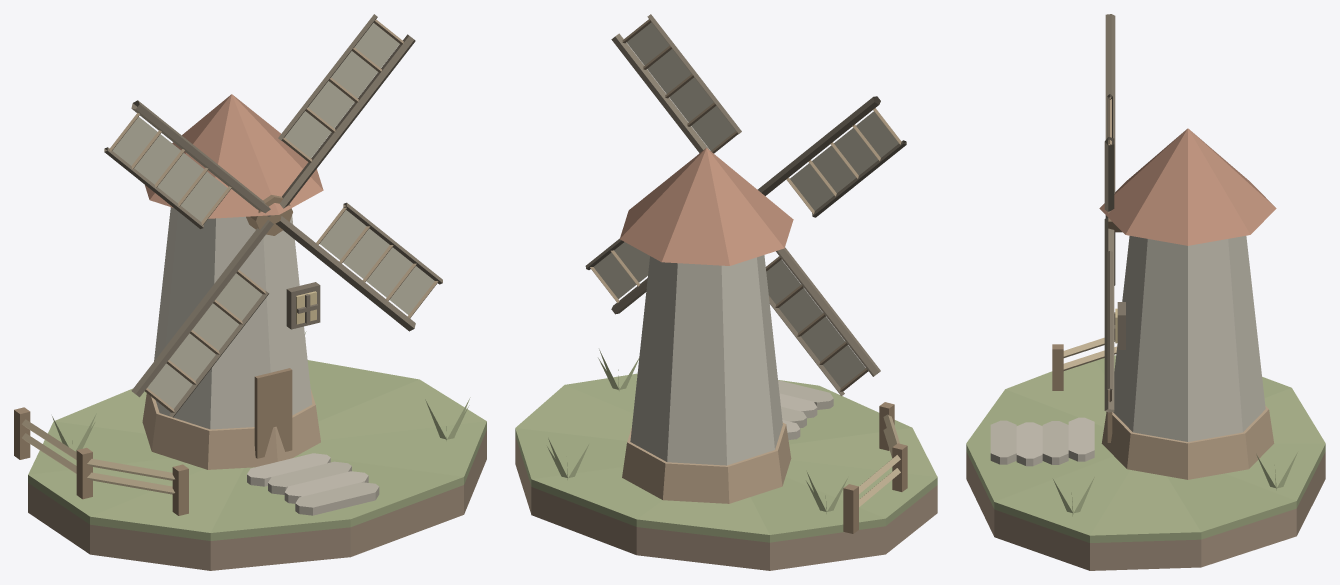
3 views of the same model, side by side, from view 1: azimuth 30°, elevation 25°; view 2: azimuth 150°, elevation 25°; view 3: azimuth 270°, elevation 25° (orthographic). The views are drawn at different scales.
Visible parts, largest first — view 1: S03, rotor_windmill_sails; view 2: S03, rotor_windmill_sails; view 3: S03, rotor_windmill_sails.
Boxes of the visible parts, left/top/right/bottom form: S03: left=14, top=94, right=486, bottom=570; rotor_windmill_sails: left=104, top=14, right=442, bottom=417; S03: left=515, top=148, right=937, bottom=570; rotor_windmill_sails: left=585, top=14, right=906, bottom=396; S03: left=966, top=128, right=1325, bottom=570; rotor_windmill_sails: left=1104, top=14, right=1122, bottom=412.
Bounding box in the file's own units: 3.64 × 4.02 × 3.04.
